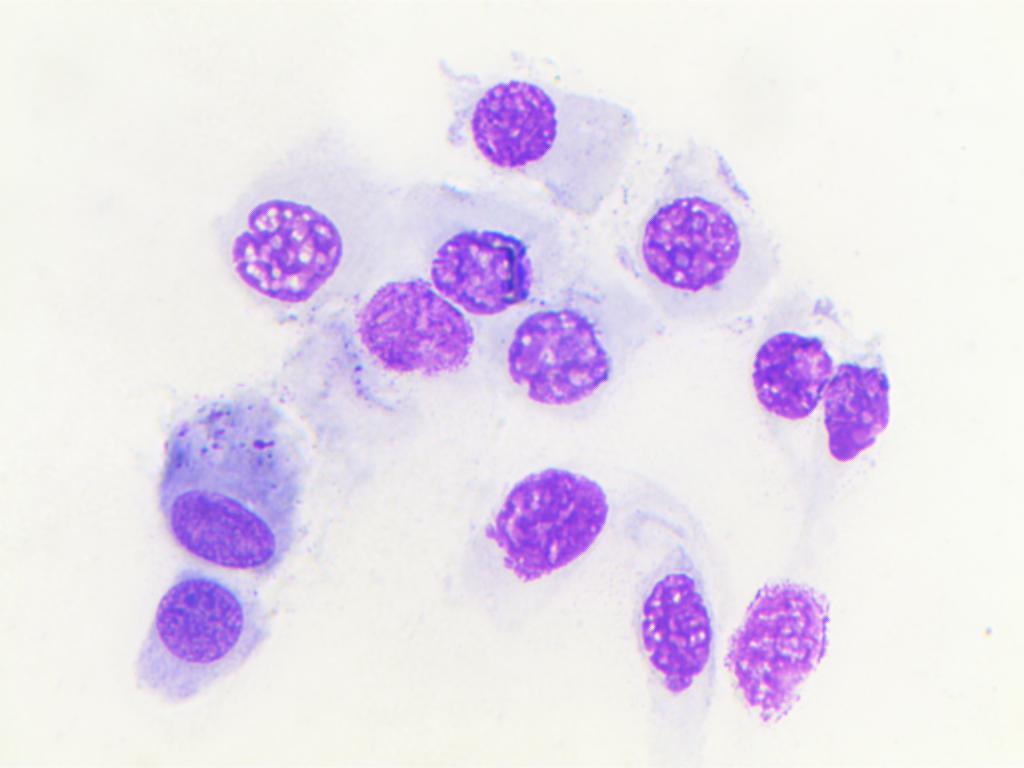epithelial: (158, 391, 304, 572), (456, 65, 619, 220), (627, 136, 758, 307), (210, 165, 354, 300), (721, 568, 842, 721), (487, 451, 612, 586), (118, 575, 251, 696), (504, 302, 623, 407), (628, 560, 716, 699), (354, 280, 474, 379), (426, 219, 541, 310), (745, 322, 833, 439), (826, 358, 900, 468)
